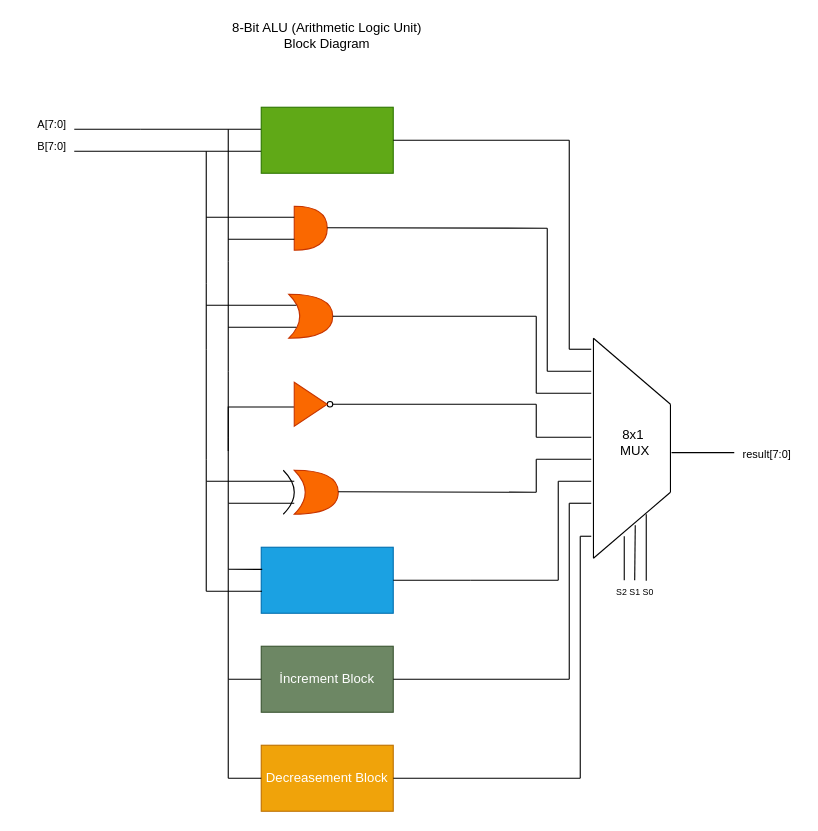
This 818x831 diagram has some shape labels left out. The shapes that lost their labels are listed below. From the top down, each one's box as (x1, y1, x2, y2) in pixels, then its label:
(260, 106, 393, 173): Adder Block
(260, 546, 393, 613): Substractor Block
